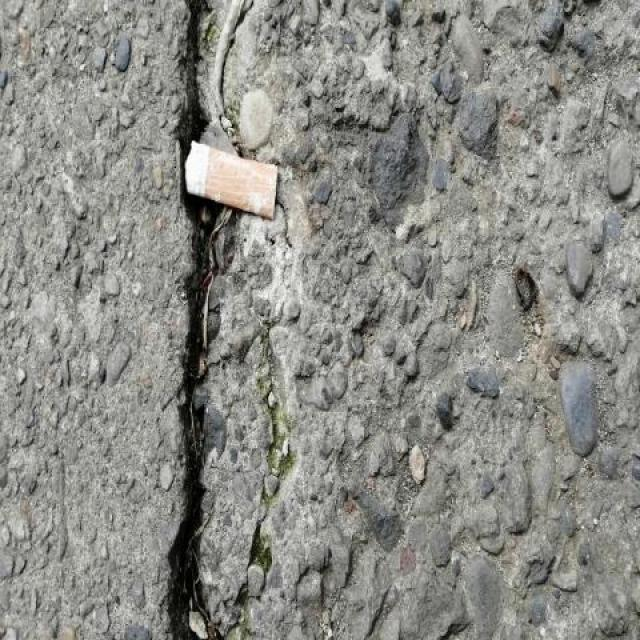non-organic waste: (178, 134, 282, 222)
